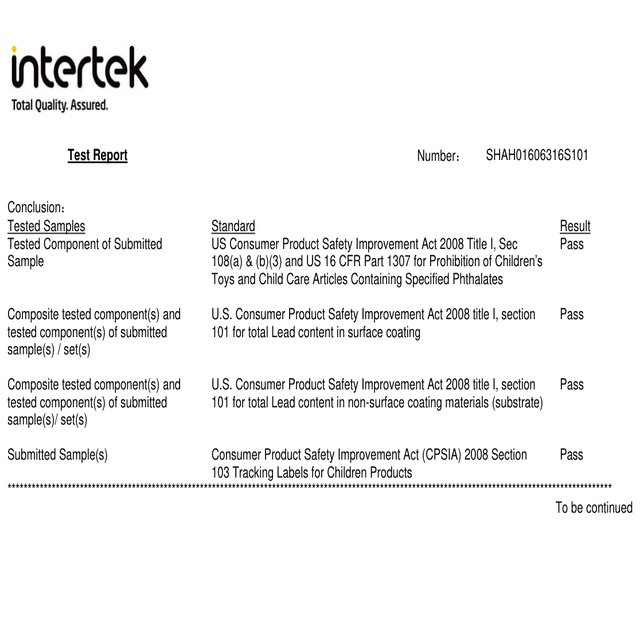intertek: (2, 37, 152, 94)
